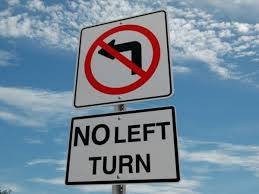No_left_turn: (84, 25, 161, 94)
